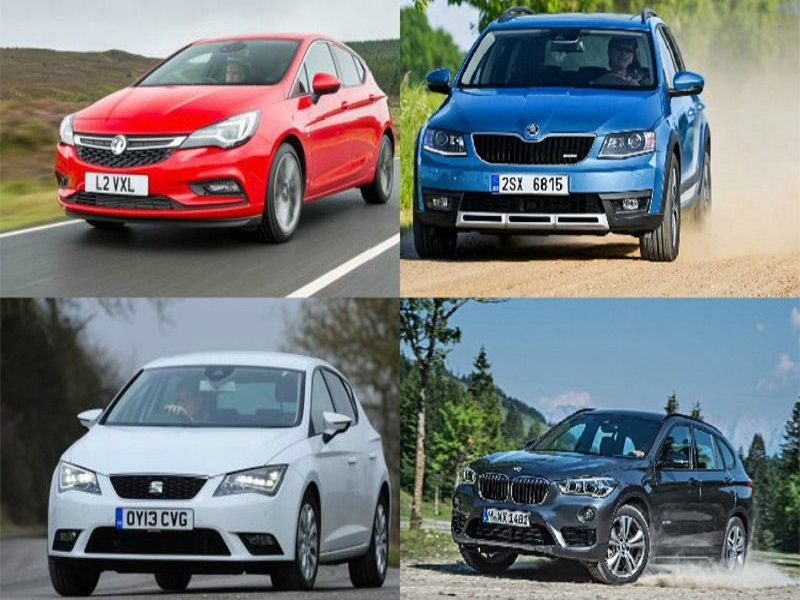car: (47, 351, 392, 594), (413, 6, 713, 263), (54, 32, 397, 242), (450, 408, 755, 584)
person: (166, 378, 207, 425), (607, 34, 638, 83), (224, 61, 245, 83)
plate: (116, 506, 195, 530), (490, 174, 567, 195), (85, 172, 148, 196), (482, 508, 529, 530)
